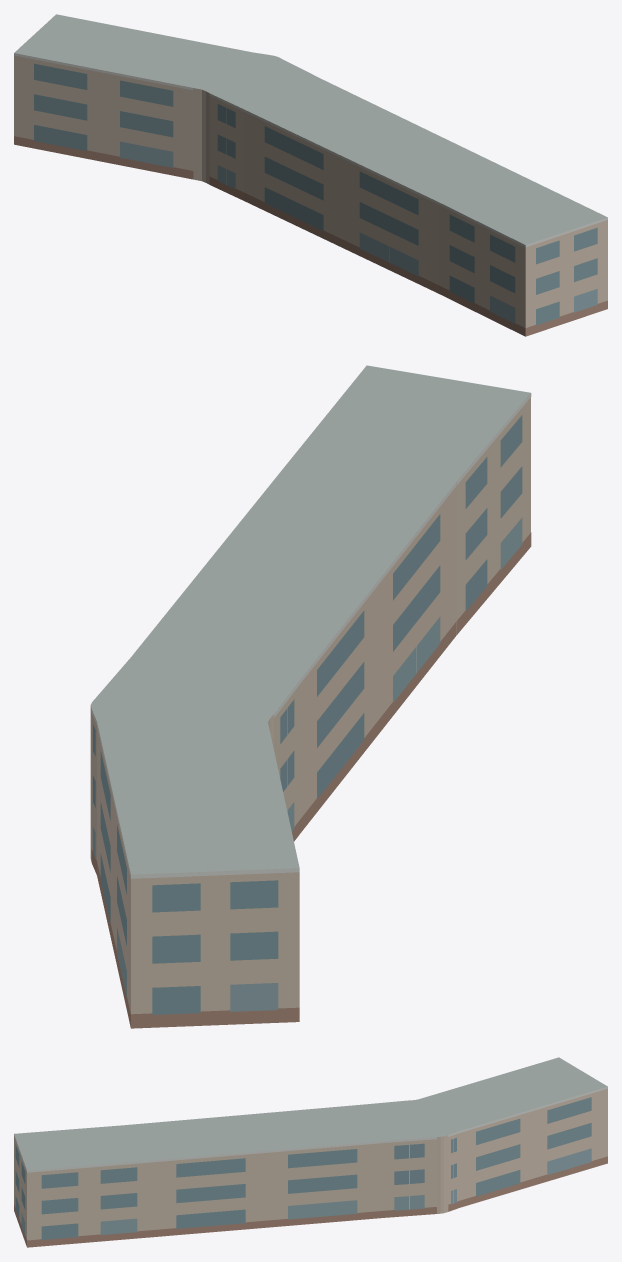
The model's file is survey-upis-32467472.glb.
3 renders of one model, top to bottom at view 1: azimuth 30°, elevation 25°; view 2: azimuth 150°, elevation 25°; view 3: azimuth 270°, elevation 25°, orthographic. The views are drawn at different scales.
Parts seen in each view (by area): view 1: survey-upis-32467472.tmp; view 2: survey-upis-32467472.tmp; view 3: survey-upis-32467472.tmp.
Part boxes in pixels (x1,y1,x2,y2): survey-upis-32467472.tmp: [14, 14, 607, 336]; survey-upis-32467472.tmp: [90, 365, 531, 1028]; survey-upis-32467472.tmp: [14, 1057, 607, 1247].
Size of the model in its own units: 28.96 by 9.15 by 64.07.
